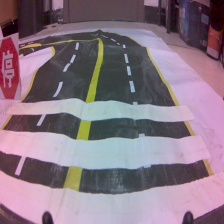stop: (1, 31, 23, 104)
